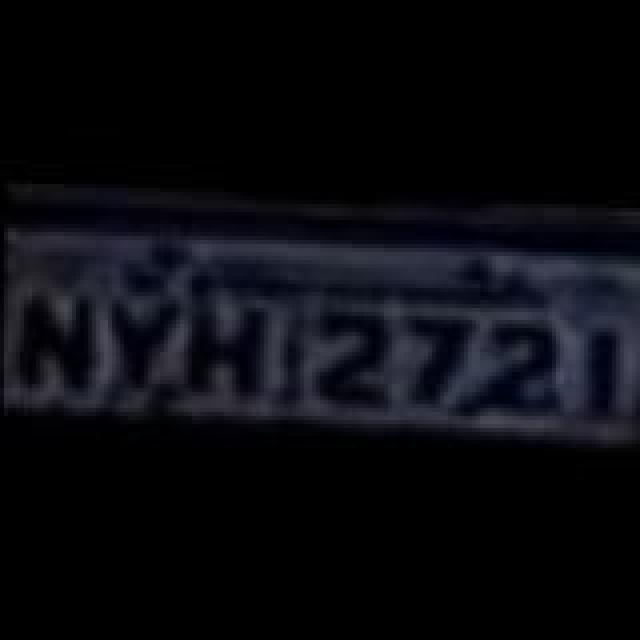1: (574, 318, 622, 418)
2: (478, 308, 566, 412), (304, 300, 388, 408)
7: (390, 304, 462, 412)
H: (184, 294, 268, 398)
N: (12, 294, 96, 394)
Y: (98, 292, 178, 396)
